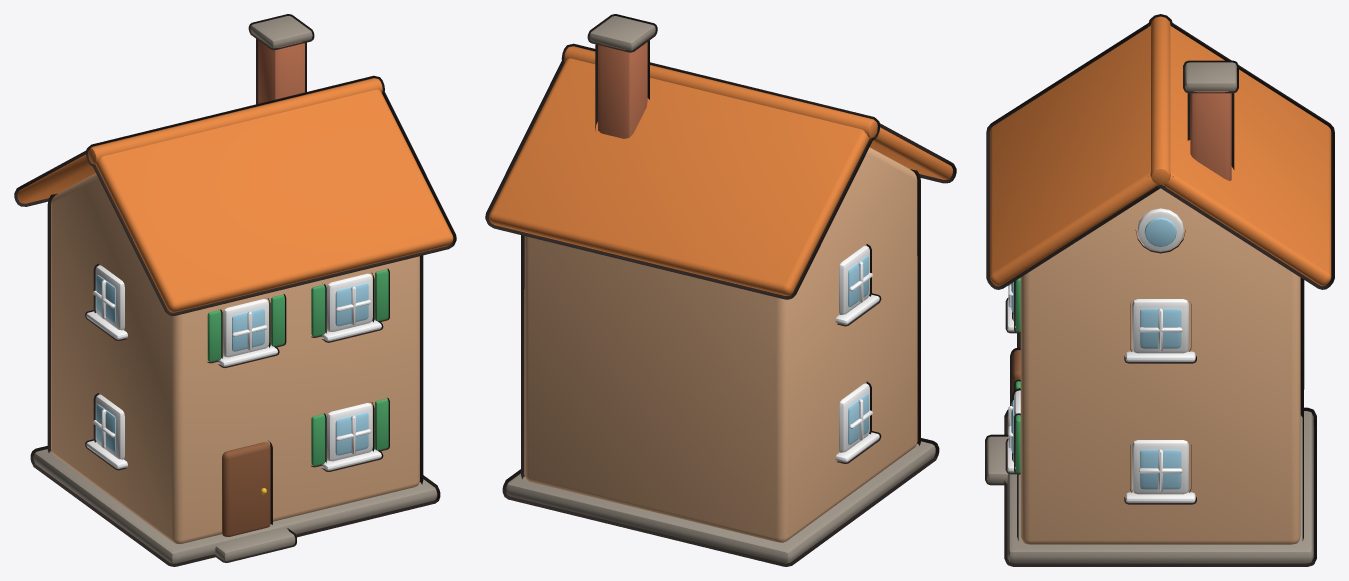
Rendered from House_Orange_2F.fbx.
3 views of the same model, side by side, from view 1: azimuth 30°, elevation 25°; view 2: azimuth 150°, elevation 25°; view 3: azimuth 270°, elevation 25° (orthographic). The views are drawn at different scales.
Parts seen in each view (by area): view 1: BL_House_Orange_2F_WallPeach, BL_House_Orange_2F_RoofOrange, BL_House_Orange_2F_Outline, BL_House_Orange_2F_StoneDark, BL_House_Orange_2F_Frame, BL_House_Orange_2F_AwningGreen, BL_House_Orange_2F_Door, BL_House_Orange_2F_Window, BL_House_Orange_2F_WallBrick; view 2: BL_House_Orange_2F_WallPeach, BL_House_Orange_2F_RoofOrange, BL_House_Orange_2F_StoneDark, BL_House_Orange_2F_Outline, BL_House_Orange_2F_WallBrick, BL_House_Orange_2F_Frame, BL_House_Orange_2F_Window; view 3: BL_House_Orange_2F_WallPeach, BL_House_Orange_2F_RoofOrange, BL_House_Orange_2F_StoneDark, BL_House_Orange_2F_Outline, BL_House_Orange_2F_Frame, BL_House_Orange_2F_Window, BL_House_Orange_2F_WallBrick, BL_House_Orange_2F_AwningGreen.
Boxes of the visible parts, x1=… form: BL_House_Orange_2F_WallPeach: x1=51, y1=173, x2=419, y2=544; BL_House_Orange_2F_RoofOrange: x1=17, y1=78, x2=453, y2=312; BL_House_Orange_2F_Outline: x1=14, y1=14, x2=456, y2=566; BL_House_Orange_2F_StoneDark: x1=33, y1=16, x2=437, y2=563; BL_House_Orange_2F_Frame: x1=86, y1=265, x2=381, y2=470; BL_House_Orange_2F_AwningGreen: x1=207, y1=269, x2=388, y2=465; BL_House_Orange_2F_Door: x1=222, y1=442, x2=270, y2=536; BL_House_Orange_2F_Window: x1=96, y1=275, x2=368, y2=455; BL_House_Orange_2F_WallBrick: x1=258, y1=40, x2=304, y2=103; BL_House_Orange_2F_WallPeach: x1=524, y1=147, x2=917, y2=542; BL_House_Orange_2F_RoofOrange: x1=489, y1=46, x2=952, y2=295; BL_House_Orange_2F_StoneDark: x1=506, y1=16, x2=935, y2=563; BL_House_Orange_2F_Outline: x1=485, y1=14, x2=956, y2=566; BL_House_Orange_2F_WallBrick: x1=598, y1=42, x2=647, y2=138; BL_House_Orange_2F_Frame: x1=835, y1=246, x2=879, y2=462; BL_House_Orange_2F_Window: x1=848, y1=256, x2=868, y2=444; BL_House_Orange_2F_WallPeach: x1=1020, y1=188, x2=1300, y2=544; BL_House_Orange_2F_RoofOrange: x1=990, y1=16, x2=1331, y2=286; BL_House_Orange_2F_StoneDark: x1=987, y1=62, x2=1313, y2=563; BL_House_Orange_2F_Outline: x1=985, y1=14, x2=1334, y2=566; BL_House_Orange_2F_Frame: x1=1007, y1=208, x2=1195, y2=502; BL_House_Orange_2F_Window: x1=1011, y1=217, x2=1181, y2=489; BL_House_Orange_2F_WallBrick: x1=1190, y1=91, x2=1231, y2=180; BL_House_Orange_2F_AwningGreen: x1=1015, y1=278, x2=1020, y2=473.
Size of the model in its own units: 7.1 by 9.9 by 6.75.
